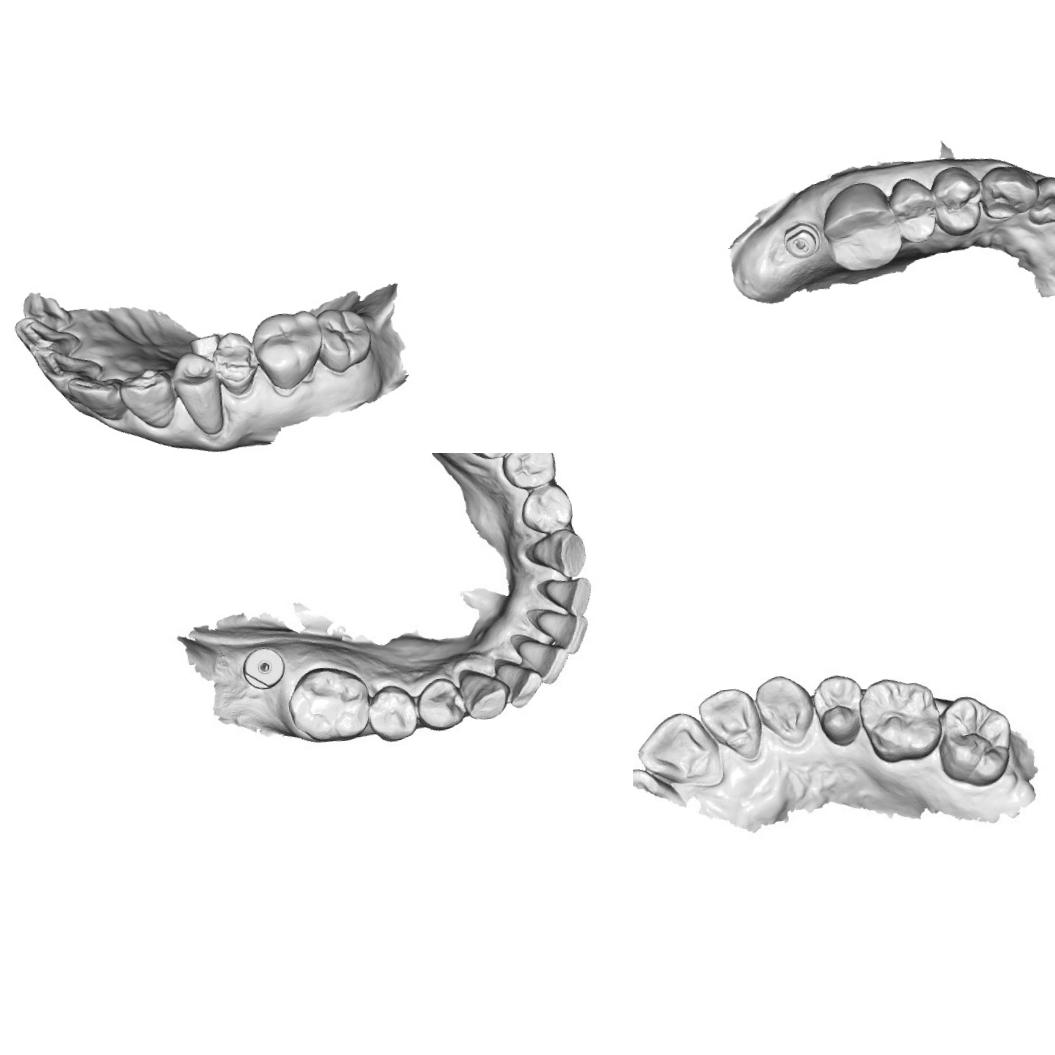canine: (750, 668, 816, 750), (113, 364, 188, 435), (975, 158, 1042, 230), (457, 663, 513, 726), (528, 526, 591, 582)
implant: (239, 646, 291, 692)
implant_minus: (780, 217, 826, 263)
incisor: (633, 708, 718, 790), (693, 682, 766, 766), (31, 342, 107, 396), (12, 309, 84, 361), (64, 370, 128, 426), (533, 604, 593, 658), (516, 634, 572, 688), (496, 655, 542, 712), (542, 573, 597, 616), (1026, 168, 1055, 228)
molar: (814, 179, 905, 279), (931, 690, 1020, 792), (855, 672, 946, 767), (282, 661, 375, 747), (249, 306, 328, 394), (312, 302, 378, 378)
premolar: (163, 346, 234, 440), (926, 160, 987, 242), (810, 671, 872, 748), (886, 173, 944, 248), (206, 327, 263, 401), (366, 684, 419, 744), (414, 675, 465, 736), (522, 482, 576, 536), (497, 453, 555, 493)
